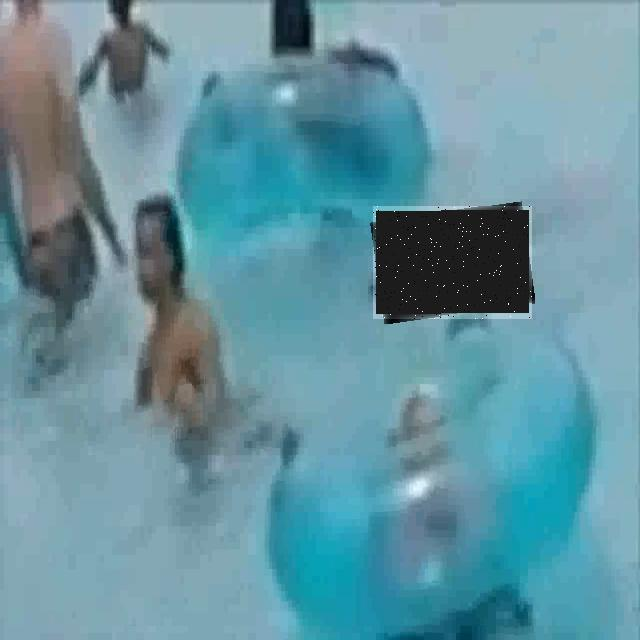Out of Water: (373, 206, 532, 319)
